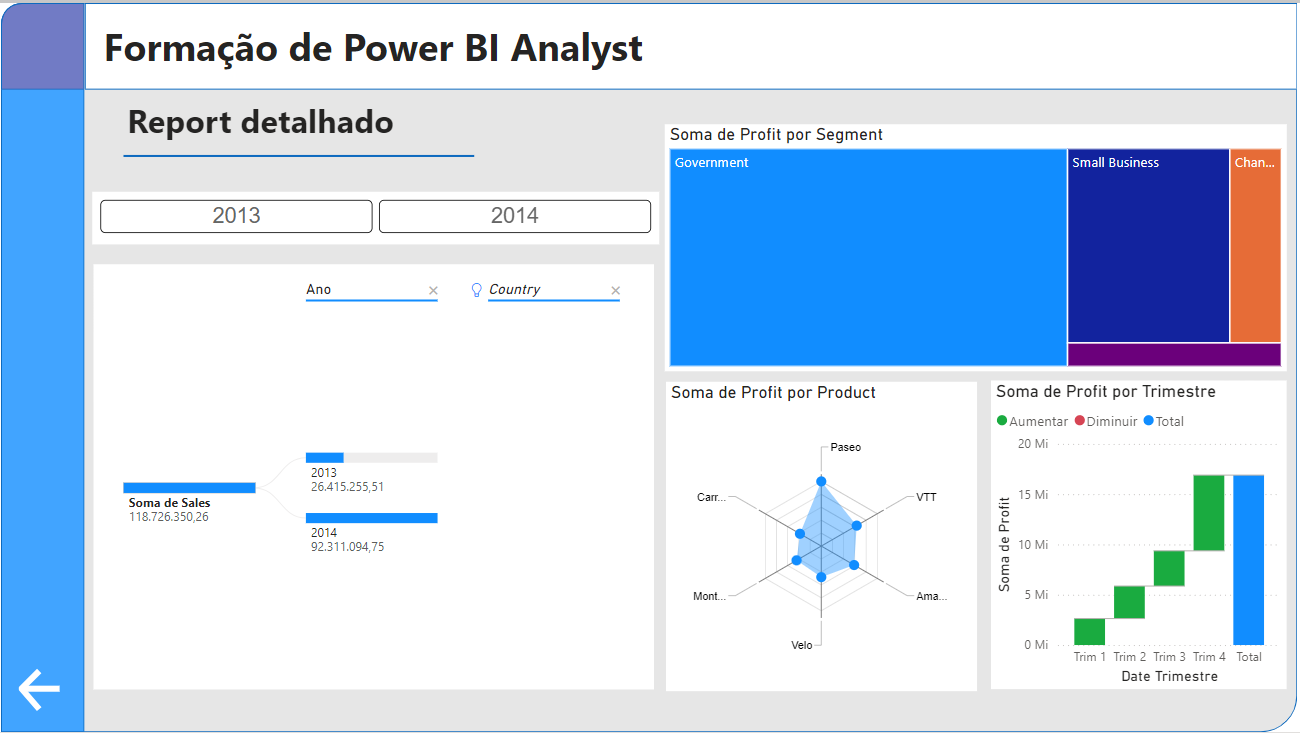

The dashboard page shown, as its layout file describes it:
{"tool":"powerbi","page":{"name":"Página 2","canvas":[1280,720],"ordinal":1},"visuals":[{"type":"group","id":"g1","title":"Fundo + título","box":[0,0,1280,720],"z":0},{"type":"shape","box":[0.3,0,1280.3,720.2],"z":0,"group":"g1"},{"type":"textbox","box":[120,88.3,373.3,61.7],"z":0,"group":"g2"},{"type":"shape","box":[0.3,0,82.6,720.2],"z":1000,"group":"g1"},{"type":"shape","box":[121,114.1,346.5,72.5],"z":1000,"group":"g2"},{"type":"ChicletSlicer1448559807354","fields":{"Category":["financials.Date.Variation.Hierarquia de datas.Ano"]},"box":[90,186.7,560,51.7],"z":1000},{"type":"shape","box":[0,0,82.6,85.6],"z":2000,"group":"g1"},{"type":"group","id":"g2","title":"Report detalhado","box":[120,88.3,373.3,98.3],"z":2000},{"type":"shape","box":[82.8,0,1197.7,85.6],"z":3000,"group":"g1"},{"type":"decompositionTreeVisual","fields":{"ExplainBy":["financials.Date.Variation.Hierarquia de datas.Ano","financials.Country"],"Analyze":["Sum(financials. Sales)"]},"box":[91.7,258.3,553.3,420],"z":3000},{"type":"RadarChart1446119667547","fields":{"Y":["Sum(financials.Profit)"],"Category":["financials.Product"]},"box":[681.7,360,306.7,306.7],"z":3001},{"type":"treemap","fields":{"Values":["Sum(financials.Profit)"],"Group":["financials.Segment"]},"box":[655,116.7,615,243.3],"z":3002},{"type":"waterfallChart","fields":{"Category":["financials.Date.Variation.Hierarquia de datas.Trimestre"],"Y":["Sum(financials.Profit)"]},"box":[978.3,373.3,291.7,305],"z":3003},{"type":"textbox","box":[95.7,12.9,762.9,61.4],"z":4000,"group":"g1"},{"type":"actionButton","box":[14,653,62,51],"z":5000,"group":"g1"}]}

Visuals, with their boxes in screenshot pixels (x1, y1, x2, y2), scaled from the page's 1280x720 canvas onto the 1300x733 screenshot:
"Fundo + título" group: crop(0, 0, 1299, 732)
shape: crop(0, 0, 1299, 732)
textbox: crop(122, 90, 501, 153)
shape: crop(0, 0, 84, 732)
shape: crop(123, 116, 475, 190)
ChicletSlicer1448559807354 - financials.Date.Variation.Hierarquia de datas.Ano: crop(91, 190, 660, 243)
shape: crop(0, 0, 84, 87)
"Report detalhado" group: crop(122, 90, 501, 190)
shape: crop(84, 0, 1299, 87)
decompositionTreeVisual - financials.Date.Variation.Hierarquia de datas.Ano x financials.Country: crop(93, 263, 655, 691)
RadarChart1446119667547 - Sum(financials.Profit) x financials.Product: crop(692, 366, 1004, 679)
treemap - Sum(financials.Profit) x financials.Segment: crop(665, 119, 1290, 366)
waterfallChart - financials.Date.Variation.Hierarquia de datas.Trimestre x Sum(financials.Profit): crop(994, 380, 1290, 691)
textbox: crop(97, 13, 872, 76)
actionButton: crop(14, 665, 77, 717)
